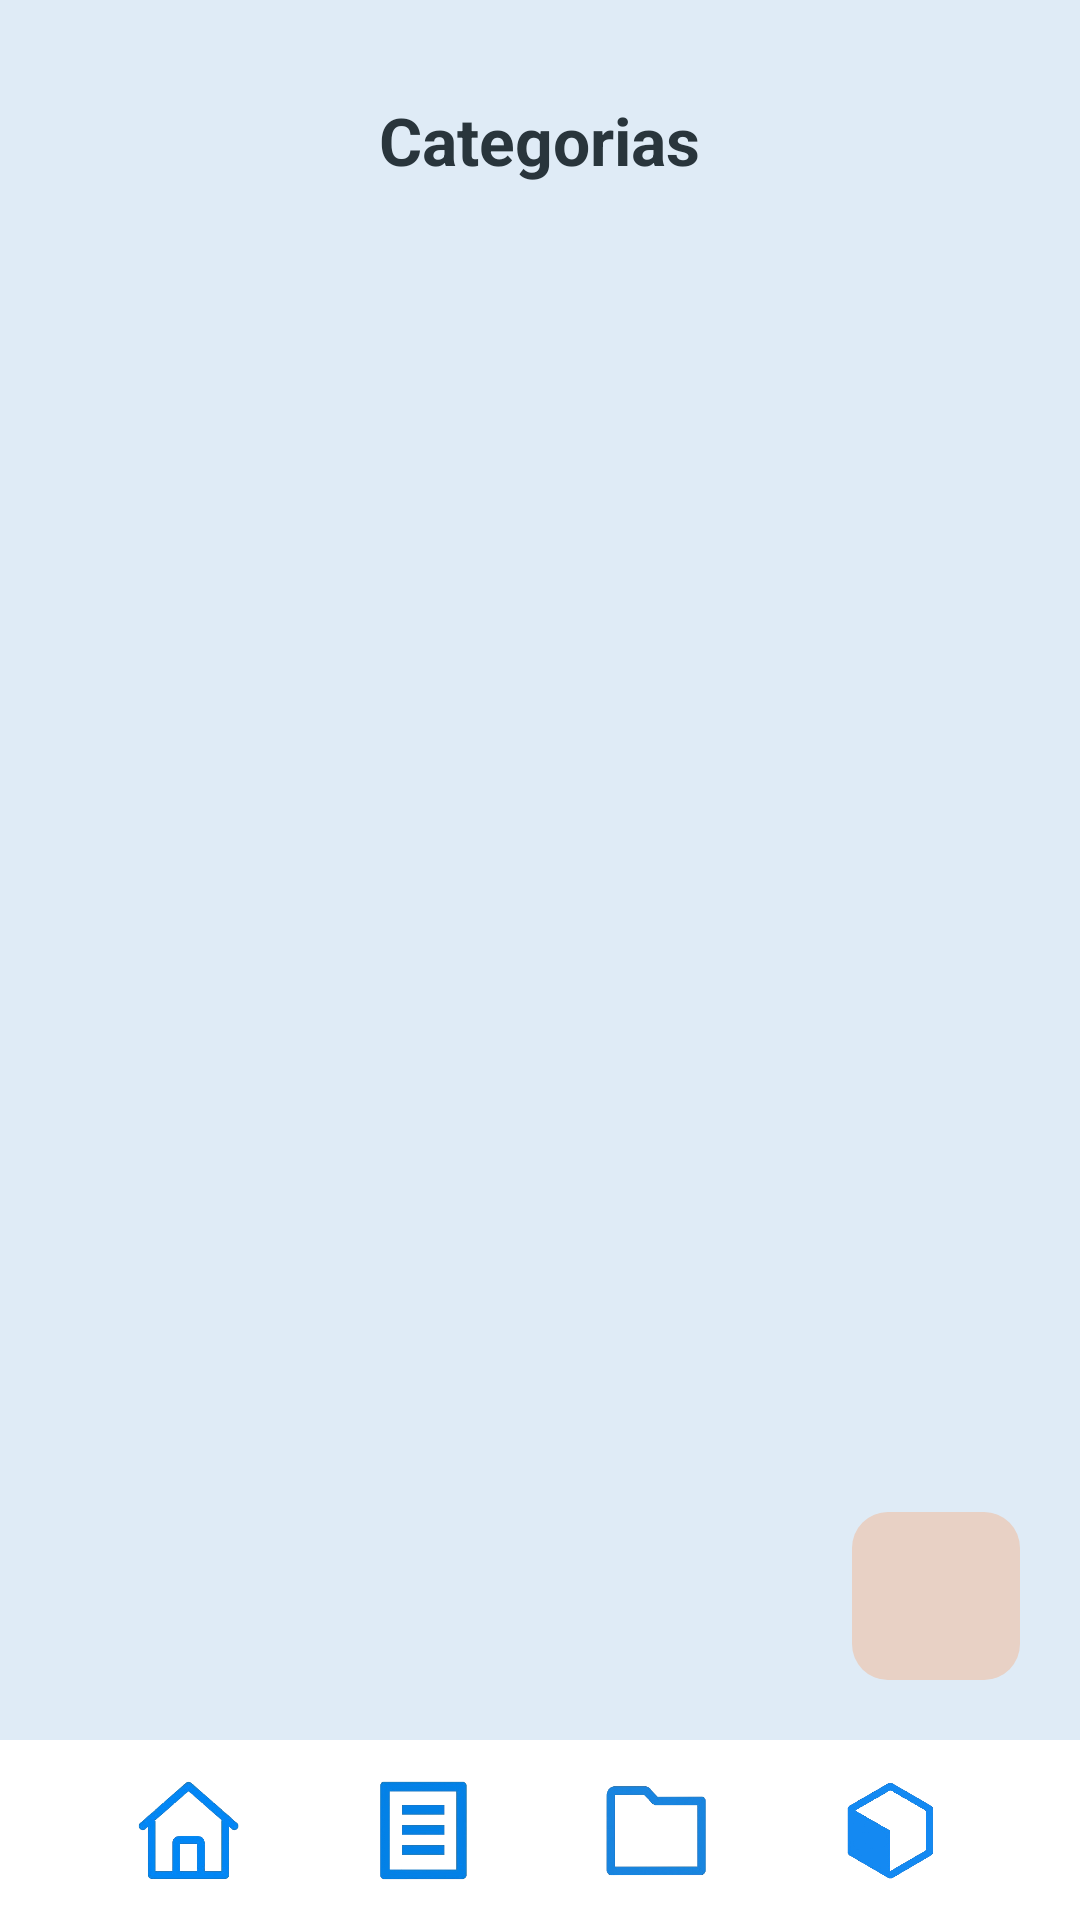

Named icons in this screenshot (1080×1920) and their centers, (x,y):
caixa: (890,1831)
home: (189,1830)
lista: (423,1830)
pasta: (656,1830)
